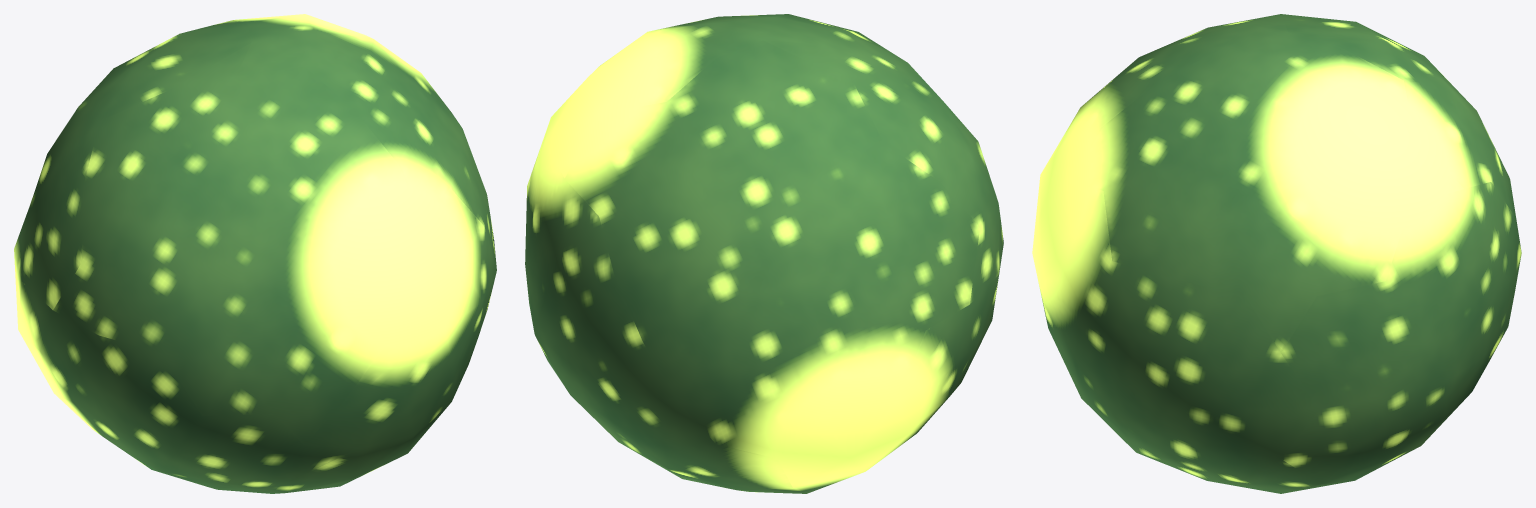
Rendered from algae_ball.glb.
3 views of the same model, side by side, from view 1: azimuth 30°, elevation 25°; view 2: azimuth 150°, elevation 25°; view 3: azimuth 270°, elevation 25° (orthographic).
Parts seen in each view (by area): view 1: AlgaeBall; view 2: AlgaeBall; view 3: AlgaeBall.
Boxes of the visible parts, <box> form: AlgaeBall: <box>14,14,496,493</box>; AlgaeBall: <box>525,14,1003,493</box>; AlgaeBall: <box>1032,14,1521,493</box>.
Size of the model in its own units: 0.3512 by 0.3554 by 0.3589.
Materials: 1 (1 with a texture image).
